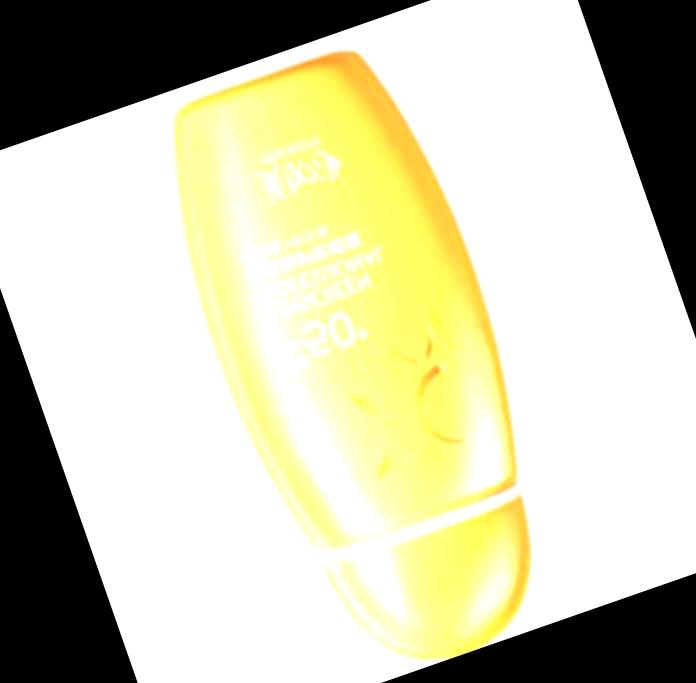cosmetic: (130, 28, 591, 683)
